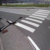zebra: (15, 9, 50, 33)
